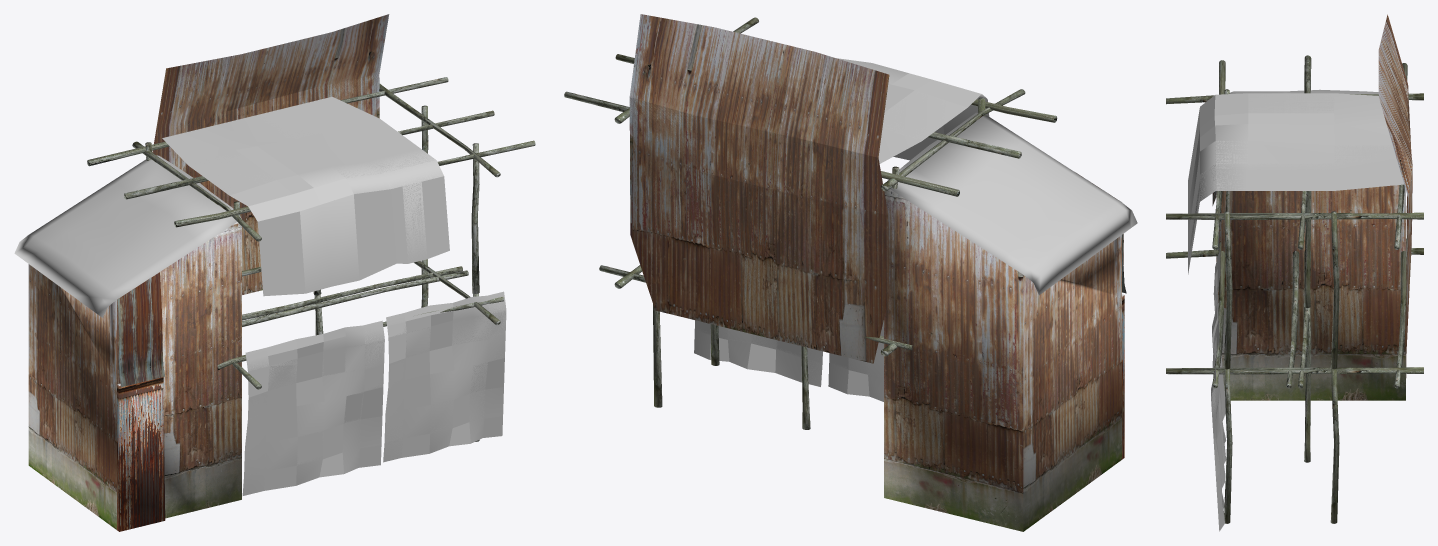
File: shanty20.fbx
The picture shows the model from 3 angles, left to right: view 1: azimuth 30°, elevation 25°; view 2: azimuth 150°, elevation 25°; view 3: azimuth 270°, elevation 25°; orthographic projection. The views are drawn at different scales.
Visible parts, largest first — view 1: shanty20; view 2: shanty20; view 3: shanty20.
Part boxes in pixels (<box>): shanty20: <box>14,14,535,531</box>; shanty20: <box>564,14,1137,531</box>; shanty20: <box>1166,14,1423,531</box>.
Bounding box in the file's own units: 255 × 212 × 127.
